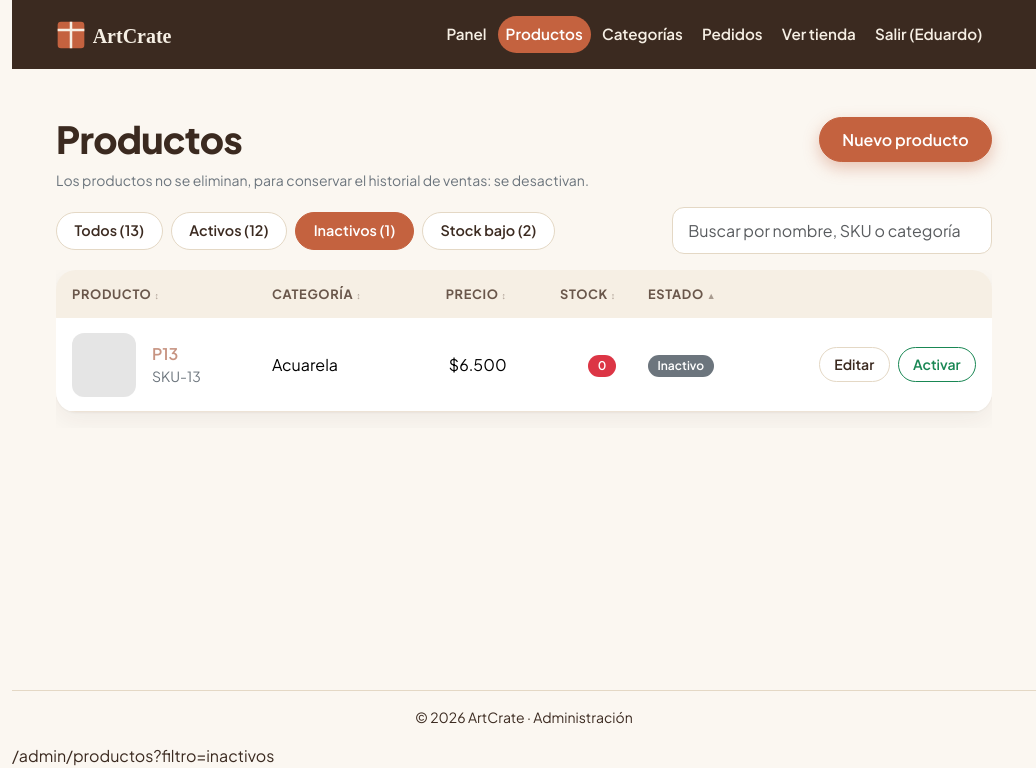
Test case: Lista de productos del panel › desactivar y activar › si el servidor falla muestra el error y deja la lista como estaba
Expected: the row "P13 SKU-13 Acuarela $6.500 0 Inactivo Editar Activar" is shown, [56, 318, 992, 411]
Click the button "Activar": (937, 364) [898, 347, 976, 382]
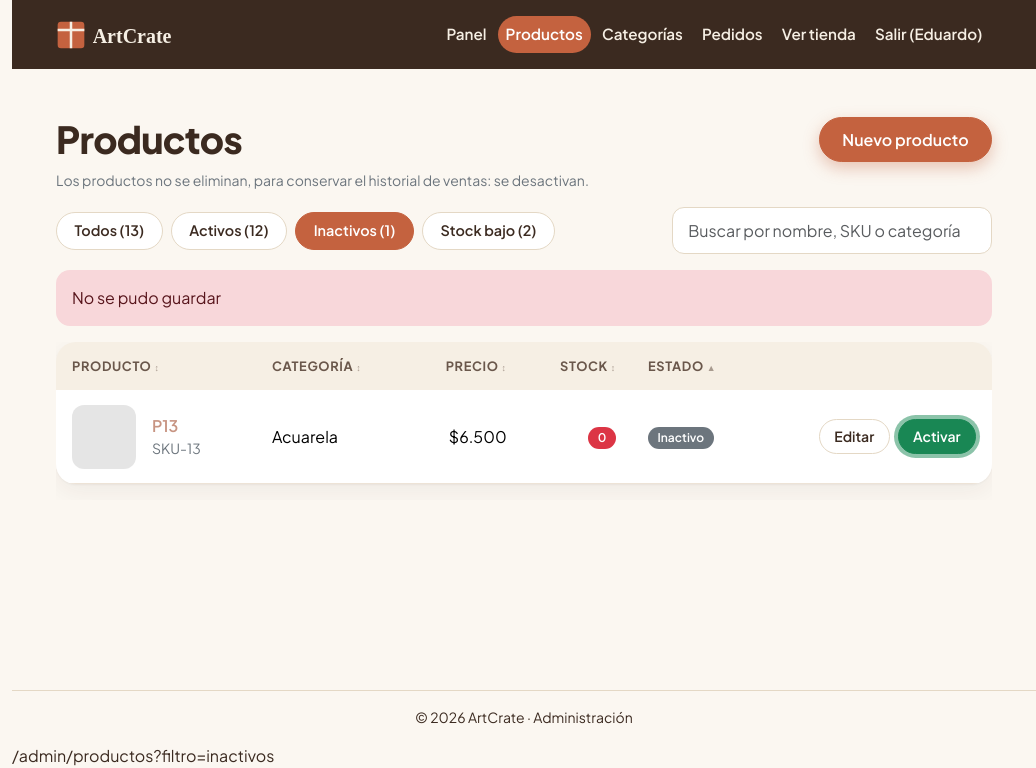
Expected: the message reads "No se pudo guardar", [72, 287, 221, 308]
